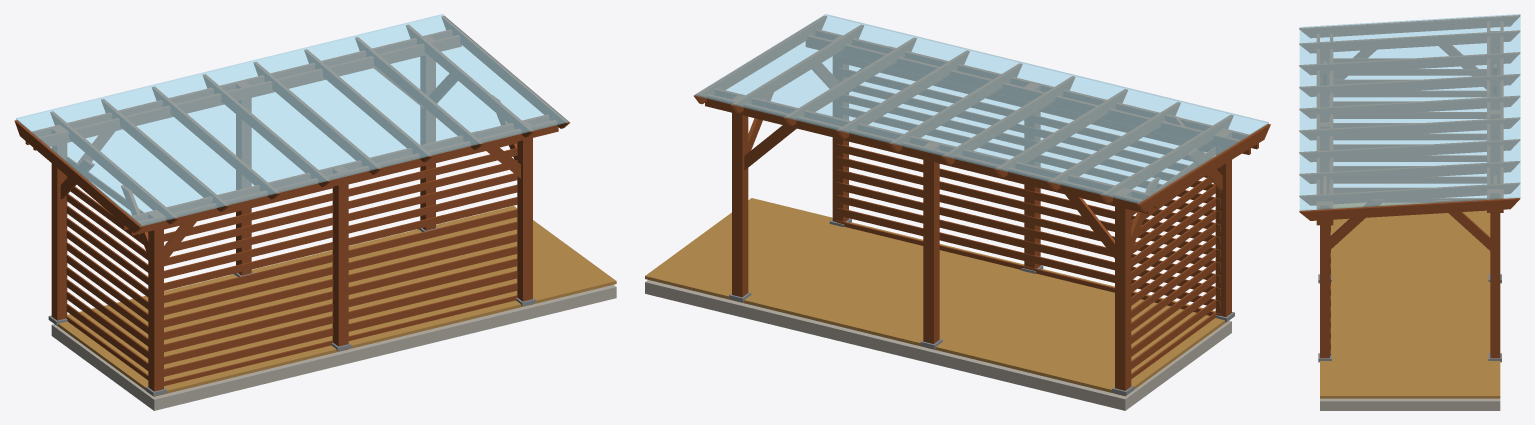
The model's file is pergola_final_model.obj.
3 views of the same model, side by side, from view 1: azimuth 30°, elevation 25°; view 2: azimuth 150°, elevation 25°; view 3: azimuth 270°, elevation 25° (orthographic). The views are drawn at different scales.
Visible parts, largest first — view 1: clear_polycarbonate_roof, terrace_deck_surface, concrete_slab_2500x6500, paired_long_beam_1180_1272.5, paired_long_beam_-1180_-1087.5, long_privacy_slat_3, long_privacy_slat_6, long_privacy_slat_8, long_privacy_slat_4, long_privacy_slat_9, long_privacy_slat_10, long_privacy_slat_2 (+36 smaller); view 2: clear_polycarbonate_roof, terrace_deck_surface, concrete_slab_2500x6500, paired_long_beam_-1180_-1272.5, paired_long_beam_1180_1087.5, glulam_post_140x140_-588_-1180, glulam_post_140x140_-3180_-1180, glulam_post_140x140_2004_-1180, long_privacy_slat_3, long_privacy_slat_2, paired_long_beam_-1180_-1087.5, long_privacy_slat_4 (+36 smaller); view 3: clear_polycarbonate_roof, terrace_deck_surface, rafter_45x145_10, concrete_slab_2500x6500, rafter_45x145_6, rafter_45x145_2, rafter_45x145_5, rafter_45x145_4, rafter_45x145_7, rafter_45x145_3, rafter_45x145_1, rafter_45x145_8 (+26 smaller).
Boxes of the visible parts, left/top/right/bottom form: clear_polycarbonate_roof: left=16, top=14, right=568, bottom=226; terrace_deck_surface: left=57, top=206, right=616, bottom=396; concrete_slab_2500x6500: left=51, top=285, right=616, bottom=410; paired_long_beam_1180_1272.5: left=130, top=120, right=558, bottom=235; paired_long_beam_-1180_-1087.5: left=33, top=35, right=461, bottom=150; long_privacy_slat_3: left=164, top=270, right=517, bottom=364; long_privacy_slat_6: left=164, top=234, right=517, bottom=327; long_privacy_slat_8: left=164, top=209, right=517, bottom=302; long_privacy_slat_4: left=164, top=258, right=517, bottom=352; long_privacy_slat_9: left=164, top=197, right=517, bottom=290; long_privacy_slat_10: left=164, top=184, right=517, bottom=278; long_privacy_slat_2: left=164, top=283, right=517, bottom=376; clear_polycarbonate_roof: left=695, top=14, right=1268, bottom=203; terrace_deck_surface: left=645, top=198, right=1225, bottom=396; concrete_slab_2500x6500: left=645, top=280, right=1231, bottom=410; paired_long_beam_-1180_-1272.5: left=705, top=94, right=1150, bottom=214; paired_long_beam_1180_1087.5: left=806, top=35, right=1250, bottom=154; glulam_post_140x140_-588_-1180: left=923, top=142, right=939, bottom=349; glulam_post_140x140_-3180_-1180: left=1115, top=189, right=1131, bottom=395; glulam_post_140x140_2004_-1180: left=732, top=95, right=748, bottom=302; long_privacy_slat_3: left=837, top=195, right=1220, bottom=295; long_privacy_slat_2: left=837, top=208, right=1220, bottom=308; paired_long_beam_-1180_-1087.5: left=715, top=88, right=1158, bottom=208; long_privacy_slat_4: left=837, top=182, right=1220, bottom=283; clear_polycarbonate_roof: left=1299, top=14, right=1520, bottom=210; terrace_deck_surface: left=1320, top=203, right=1500, bottom=398; rafter_45x145_10: left=1299, top=198, right=1520, bottom=220; concrete_slab_2500x6500: left=1320, top=398, right=1500, bottom=410; rafter_45x145_6: left=1299, top=117, right=1519, bottom=140; rafter_45x145_2: left=1299, top=30, right=1519, bottom=53; rafter_45x145_5: left=1299, top=96, right=1519, bottom=118; rafter_45x145_4: left=1299, top=74, right=1519, bottom=96; rafter_45x145_7: left=1299, top=139, right=1519, bottom=161; rafter_45x145_3: left=1299, top=52, right=1519, bottom=74; rafter_45x145_1: left=1299, top=15, right=1519, bottom=37; rafter_45x145_8: left=1299, top=161, right=1519, bottom=183.
Bounding box in the file's own units: 6.86 × 2.89 × 3.07.
